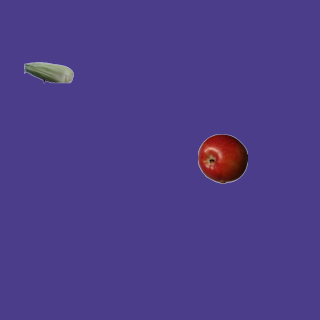Apple Braeburn: (197, 133, 247, 183)
Corn Husk: (23, 47, 73, 97)
